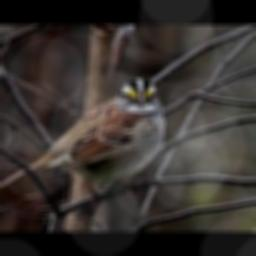Sparrow: (0, 78, 165, 199)
